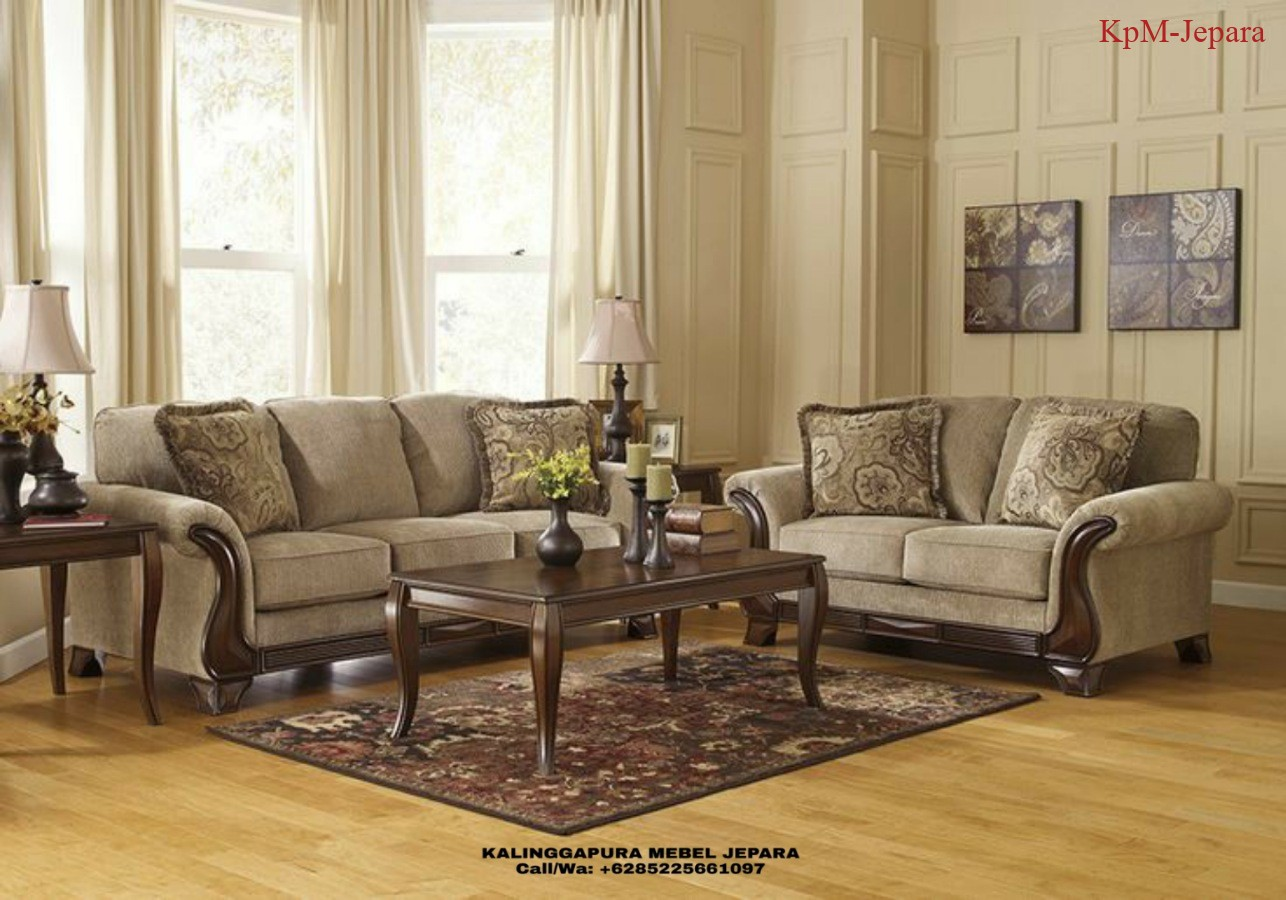lampu: (12, 280, 83, 506), (577, 294, 650, 451)
lukisan: (1100, 190, 1251, 335), (950, 205, 1087, 336)
meja: (381, 567, 842, 731)
sova: (726, 395, 1238, 686), (99, 402, 657, 640)
tanaman: (528, 456, 601, 558), (1, 389, 40, 520)
